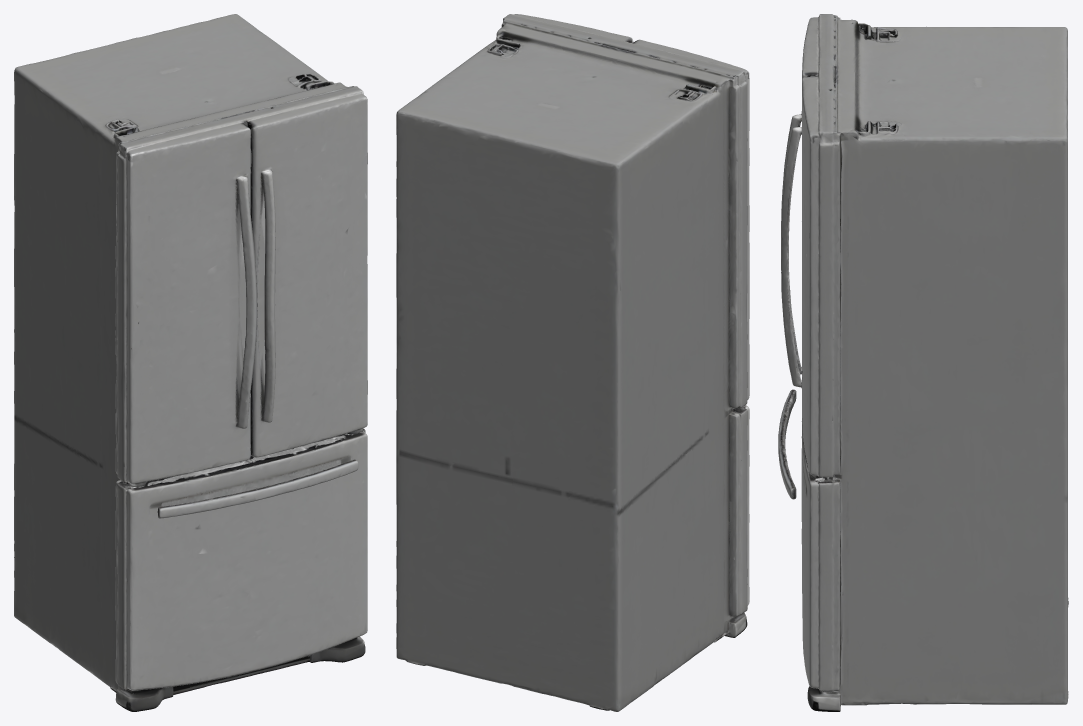
The model's file is fridgedemov1.glb.
The picture shows the model from 3 angles, left to right: view 1: azimuth 30°, elevation 25°; view 2: azimuth 150°, elevation 25°; view 3: azimuth 270°, elevation 25°; orthographic projection. The views are drawn at different scales.
Bounding box in the file's own units: 0.8571 × 1.9 × 0.8632.
1 material, 1 textured.
